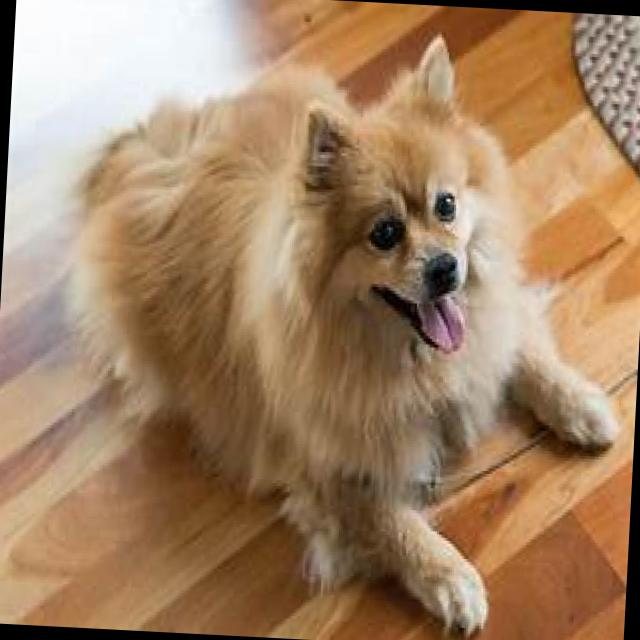animal: (50, 13, 640, 640)
